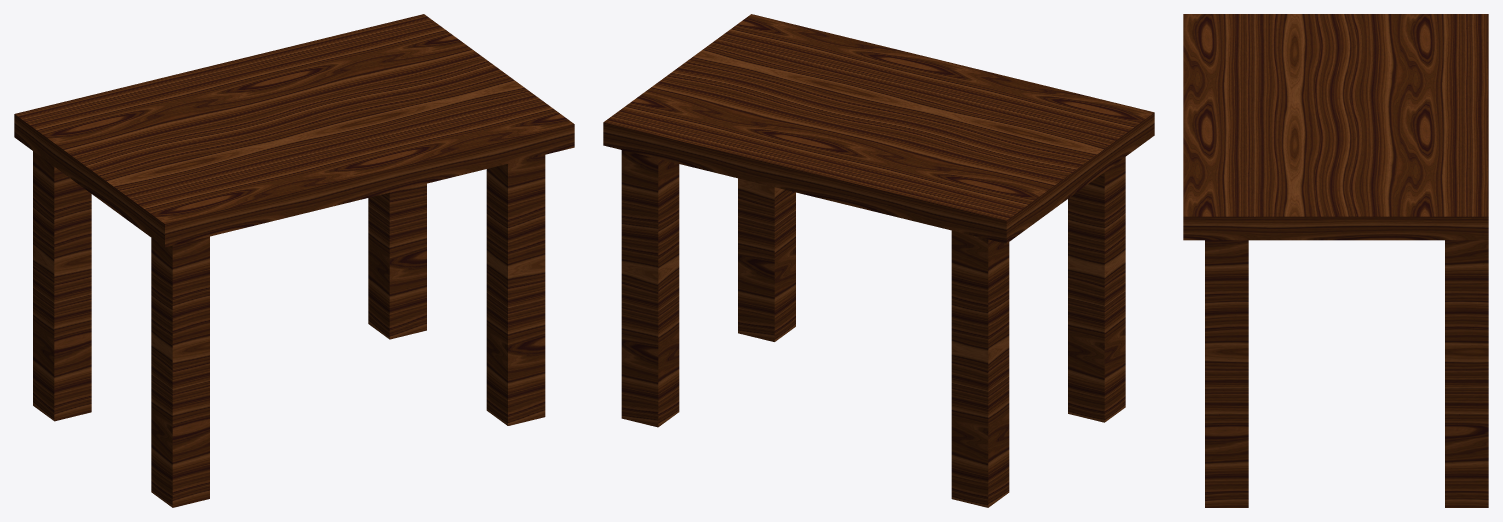
File: room.fbx
3 renders of one model, left to right at view 1: azimuth 30°, elevation 25°; view 2: azimuth 150°, elevation 25°; view 3: azimuth 270°, elevation 25°, orthographic. The views are drawn at different scales.
Parts seen in each view (by area): view 1: Table1; view 2: Table1; view 3: Table1.
Part boxes in pixels (x1,y1,x2,y2): Table1: (14,14,574,507); Table1: (603,14,1154,507); Table1: (1183,14,1488,507).
Size of what is drawn, in the model's own units: 1.1 by 0.76 by 0.7.
